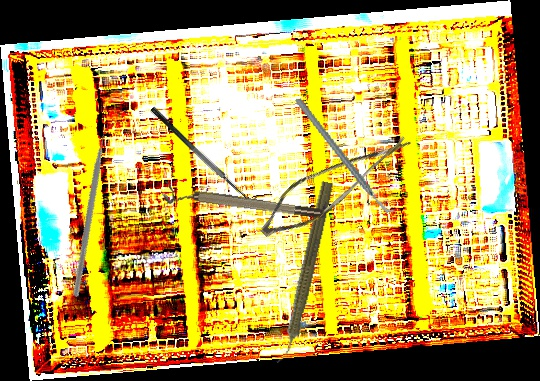Chopper: (18, 119, 174, 299), (295, 81, 397, 232)
Fixation Ring: (160, 180, 328, 229)
Handpiece: (272, 179, 337, 367)
Micro Scissor: (252, 104, 413, 261)
Spatula Surgical: (149, 98, 260, 208)
